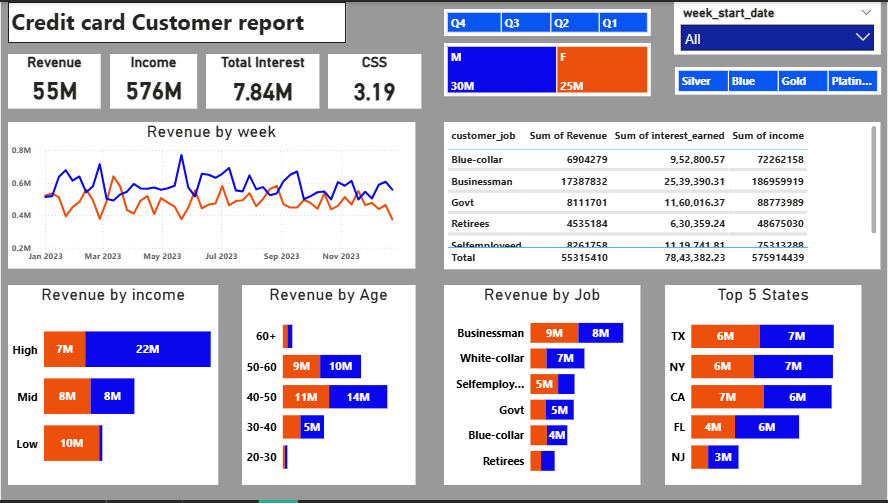

Layout of this report page (visuals, bound fields, positions):
{"tool":"powerbi","page":{"name":"Page 1","canvas":[1280,720],"ordinal":0},"visuals":[{"type":"barChart","title":"Revenue by income","fields":{"Y":["Sum(public cc_detail.Revenue)"],"Category":["public cust_detail.Income group"],"Series":["public cust_detail.gender"]},"box":[10.1,408.7,304.4,289.3],"z":0},{"type":"card","title":"Revenue","fields":{"Values":["Sum(public cc_detail.Revenue)"]},"box":[10.1,75.6,134.4,79],"z":1000},{"type":"card","title":"Income","fields":{"Values":["Sum(public cust_detail.income)"]},"box":[157.3,75.6,126,79],"z":2000},{"type":"card","title":"Total Interest","fields":{"Values":["Sum(public cc_detail.interest_earned)"]},"box":[296.1,75.1,164.4,79.4],"z":3000},{"type":"card","title":"CSS","fields":{"Values":["Avg(public cust_detail.cust_satisfaction_score)"]},"box":[473.4,75.1,134.6,79.4],"z":4000},{"type":"slicer","fields":{"Values":["public cc_detail.week_start_date"]},"box":[972.6,0,299,75.6],"z":5000},{"type":"treemap","fields":{"Group":["public cc_detail.qtr"],"Values":["Avg(public cc_detail.client_num)"]},"box":[640,10.1,299,38.6],"z":6000},{"type":"treemap","fields":{"Values":["Avg(public cc_detail.client_num)"],"Group":["public cc_detail.card_category"]},"box":[973.9,94.2,297.7,40.4],"z":7000},{"type":"treemap","fields":{"Group":["public cust_detail.gender"],"Values":["Sum(public cc_detail.Revenue)"]},"box":[640.8,58.9,299.4,77.4],"z":8000},{"type":"textbox","box":[10.1,0,488.8,58.8],"z":9000},{"type":"tableEx","fields":{"Values":["public cust_detail.customer_job","Sum(public cc_detail.Revenue)","Sum(public cc_detail.interest_earned)","Sum(public cust_detail.income)"]},"box":[640.6,172.9,630.7,212.6],"z":10000},{"type":"lineChart","title":"Revenue by week","fields":{"Y":["Sum(public cc_detail.Revenue)"],"Series":["public cust_detail.gender"],"Category":["public cc_detail.week_start_date.Variation.Date Hierarchy.Year","public cc_detail.week_start_date.Variation.Date Hierarchy.Month","public cc_detail.week_start_date.Variation.Date Hierarchy.Day"]},"box":[10.1,173.2,588.7,211.9],"z":11000},{"type":"barChart","title":"Revenue by Age","fields":{"Y":["Sum(public cc_detail.Revenue)"],"Category":["public cust_detail.Age group"],"Series":["public cust_detail.gender"]},"box":[348.2,408.7,250.6,289.3],"z":12000},{"type":"barChart","title":"Revenue by Job","fields":{"Y":["Sum(public cc_detail.Revenue)"],"Category":["public cust_detail.customer_job"],"Series":["public cust_detail.gender"]},"box":[640.8,408.7,284.3,289.3],"z":13000},{"type":"barChart","title":"Top 5 States","fields":{"Y":["Sum(public cc_detail.Revenue)"],"Category":["public cust_detail.state_cd"],"Series":["public cust_detail.gender"]},"box":[960.4,408.7,284.3,289.3],"z":14000}]}

Visuals, with their boxes in screenshot pixels (x1, y1, x2, y2), scaled from the page's 1280x720 canvas onto the 888x503 screenshot:
"Revenue by income" barChart: [7, 286, 218, 488]
"Revenue" card: [7, 53, 100, 108]
"Income" card: [109, 53, 197, 108]
"Total Interest" card: [205, 52, 319, 108]
"CSS" card: [328, 52, 422, 108]
slicer - public cc_detail.week_start_date: [675, 0, 882, 53]
treemap - public cc_detail.qtr x Avg(public cc_detail.client_num): [444, 7, 651, 34]
treemap - Avg(public cc_detail.client_num) x public cc_detail.card_category: [676, 66, 882, 94]
treemap - public cust_detail.gender x Sum(public cc_detail.Revenue): [445, 41, 652, 95]
textbox: [7, 0, 346, 41]
tableEx - public cust_detail.customer_job x Sum(public cc_detail.Revenue): [444, 121, 882, 269]
"Revenue by week" lineChart: [7, 121, 415, 269]
"Revenue by Age" barChart: [242, 286, 415, 488]
"Revenue by Job" barChart: [445, 286, 642, 488]
"Top 5 States" barChart: [666, 286, 864, 488]
